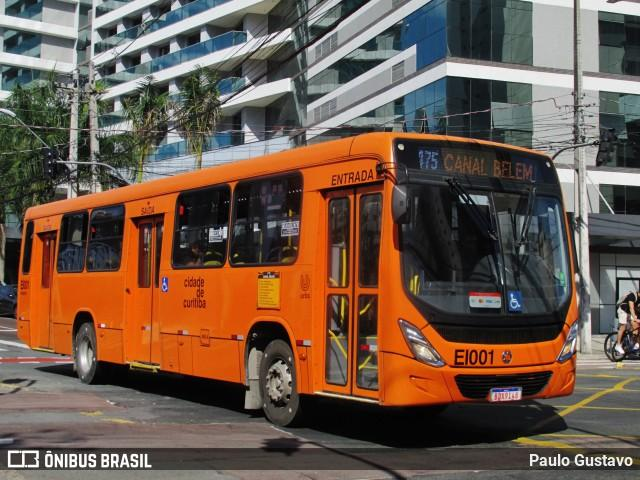CANAL BELEM: (441, 149, 536, 185)
